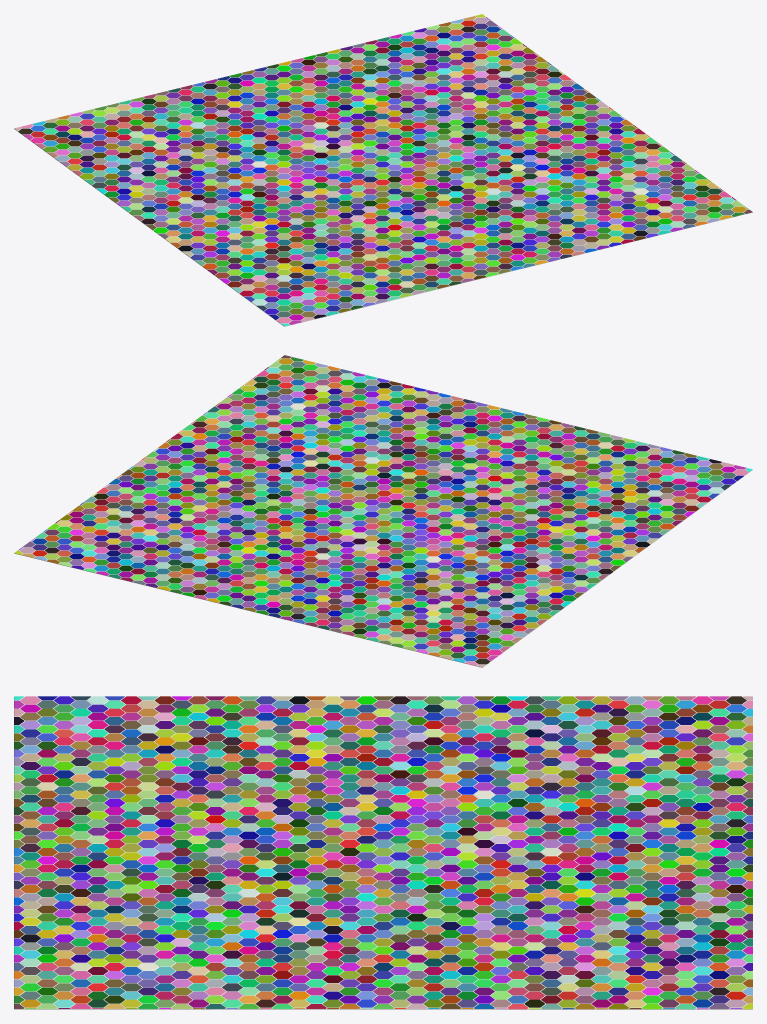
Rendered from generic_floor02.fbx.
3 renders of one model, top to bottom at view 1: azimuth 30°, elevation 25°; view 2: azimuth 150°, elevation 25°; view 3: azimuth 270°, elevation 25°, orthographic. The views are drawn at different scales.
Parts seen in each view (by area): view 1: Floor; view 2: Floor; view 3: Floor.
Part boxes in pixels (x1,y1,x2,y2): Floor: (14, 14, 752, 326); Floor: (14, 355, 752, 667); Floor: (14, 696, 752, 1009).
Bounding box in the file's own units: 400 × 400 × 0.5.
